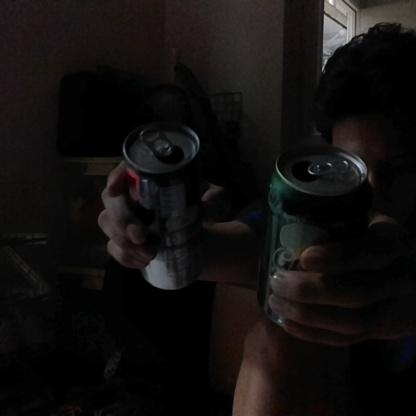alumunium_can: (258, 145, 368, 333), (121, 119, 205, 294)
